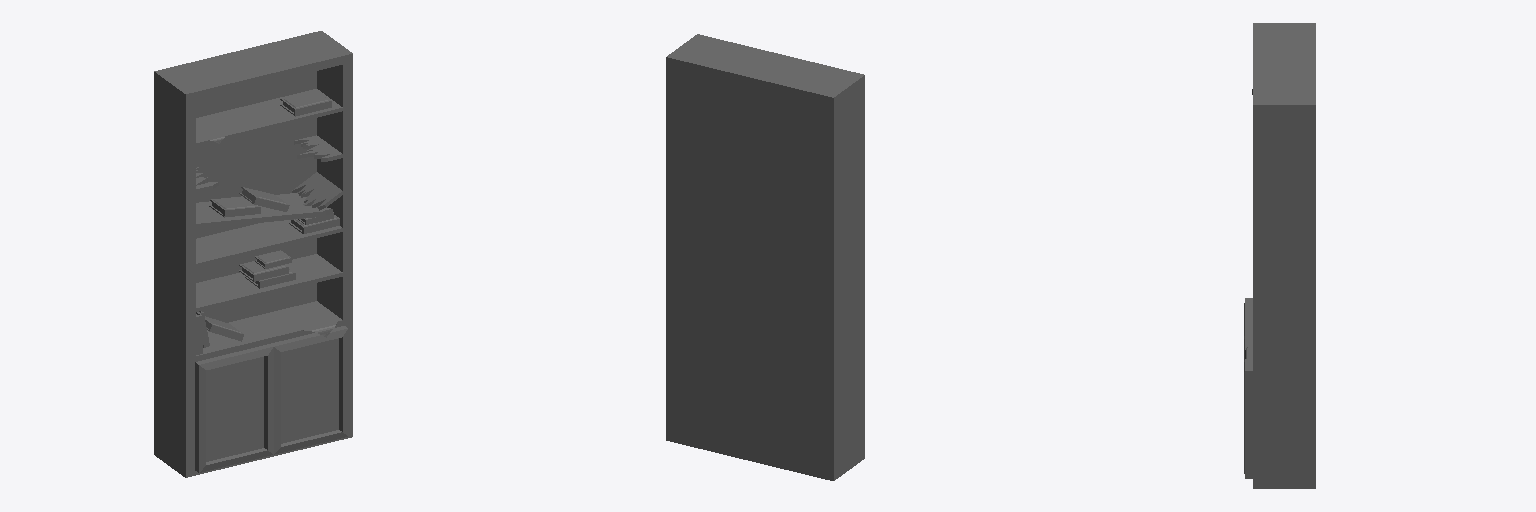
The model's file is bookshelf.obj.
3 views of the same model, side by side, from view 1: azimuth 30°, elevation 25°; view 2: azimuth 150°, elevation 25°; view 3: azimuth 270°, elevation 25° (orthographic).
Visible parts, largest first — view 1: Box001_Untitled.020, Box002_Untitled.019, Box026_Untitled.003, Box005_Untitled.032, Box004_Untitled.027, Box010_Untitled.011, Box009_Untitled.008, Box008_Untitled.015, Box055_Untitled.041, Box011_Untitled.007, Box053_Untitled.033, Box043_Untitled.038 (+2 smaller); view 2: Box001_Untitled.020; view 3: Box001_Untitled.020, Box026_Untitled.003.
Part boxes in pixels (left/top/right/bottom): Box001_Untitled.020: left=154, top=31, right=352, bottom=477; Box002_Untitled.019: left=195, top=344, right=273, bottom=472; Box026_Untitled.003: left=271, top=326, right=347, bottom=454; Box005_Untitled.032: left=196, top=220, right=342, bottom=267; Box004_Untitled.027: left=196, top=254, right=342, bottom=311; Box010_Untitled.011: left=196, top=89, right=342, bottom=146; Box009_Untitled.008: left=196, top=193, right=332, bottom=228; Box008_Untitled.015: left=292, top=172, right=342, bottom=210; Box055_Untitled.041: left=280, top=90, right=331, bottom=116; Box011_Untitled.007: left=294, top=135, right=342, bottom=161; Box053_Untitled.033: left=209, top=196, right=260, bottom=217; Box043_Untitled.038: left=239, top=261, right=288, bottom=281; Box001_Untitled.020: left=666, top=34, right=864, bottom=480; Box001_Untitled.020: left=1253, top=23, right=1315, bottom=488; Box026_Untitled.003: left=1244, top=334, right=1252, bottom=478.
Size of the model in its own units: 1.52 by 3.32 by 0.5685.